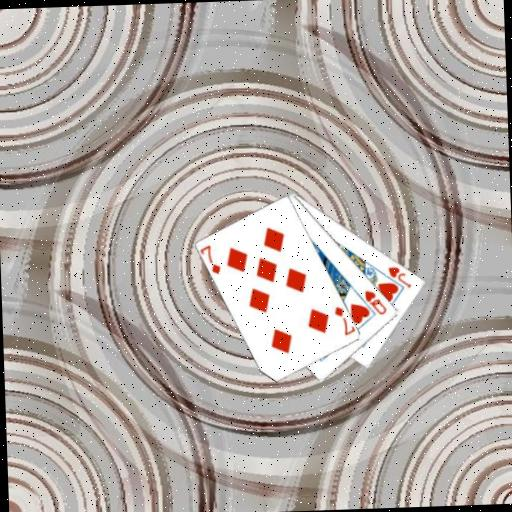7D: (331, 303, 356, 338), (198, 241, 222, 276)
JH: (385, 262, 413, 290)
QH: (361, 287, 388, 317)
